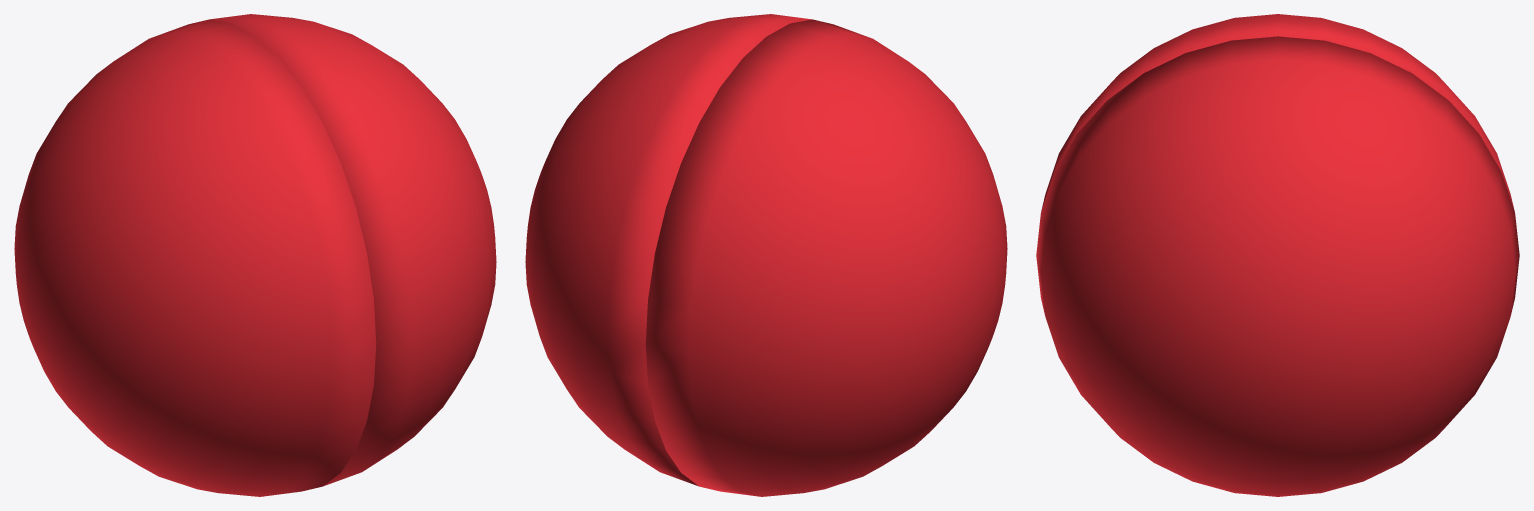
The model's file is halfFruit.fbx.
3 renders of one model, left to right at view 1: azimuth 30°, elevation 25°; view 2: azimuth 150°, elevation 25°; view 3: azimuth 270°, elevation 25°, orthographic.
Visible parts, largest first — view 1: bottom, top; view 2: bottom, top; view 3: top, bottom.
Part boxes in pixels (x1,y1,x2,y2): bottom: [14, 19, 376, 496]; top: [210, 14, 496, 486]; bottom: [645, 19, 1007, 496]; top: [525, 14, 811, 486]; top: [1036, 36, 1519, 496]; bottom: [1041, 14, 1514, 210].
Size of the model in its own units: 200 by 200 by 200.
